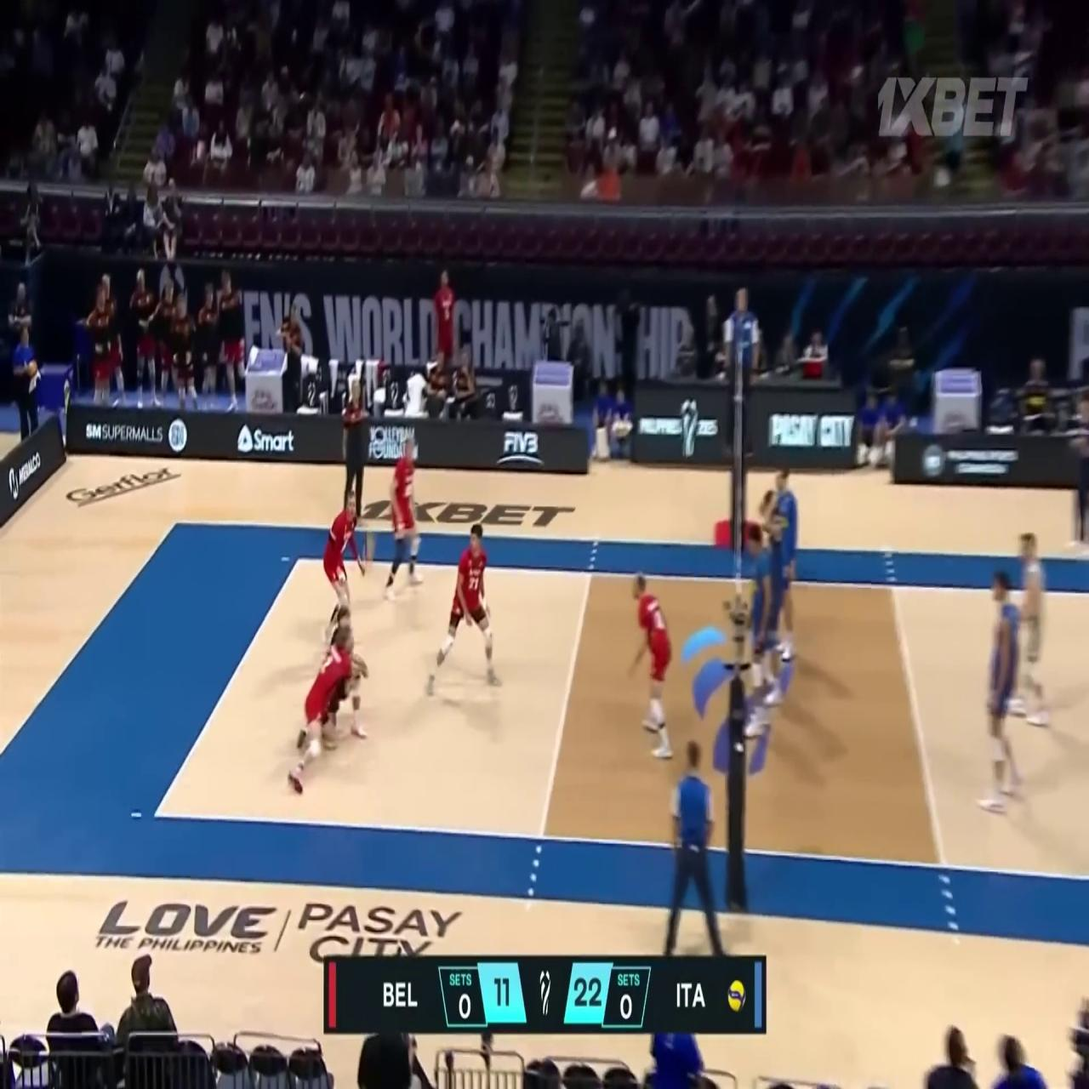ball: (363, 535, 375, 565)
